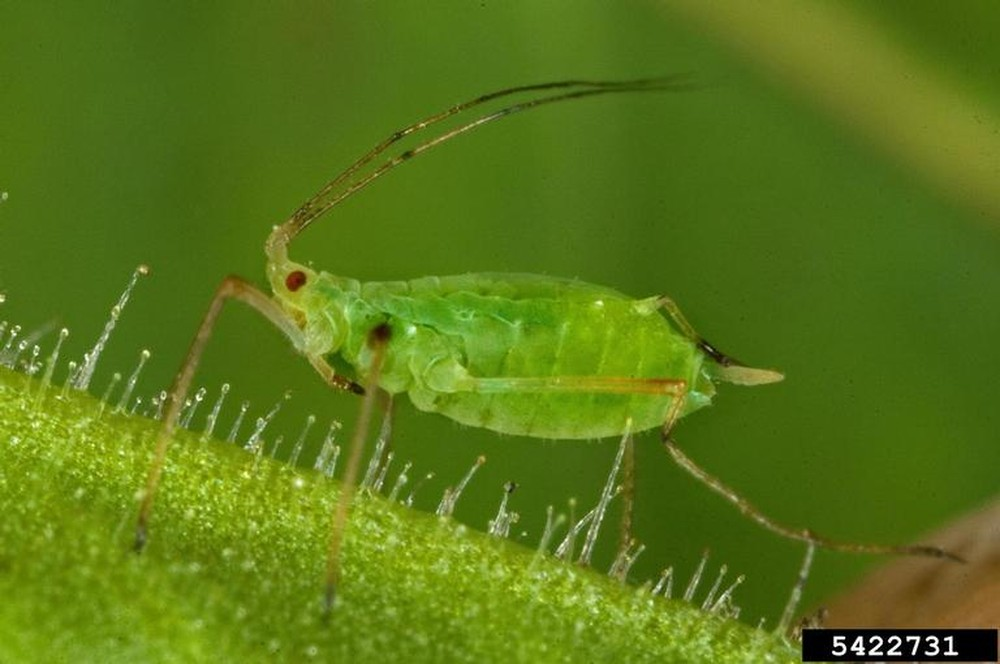Pulgon: (191, 76, 854, 616)
